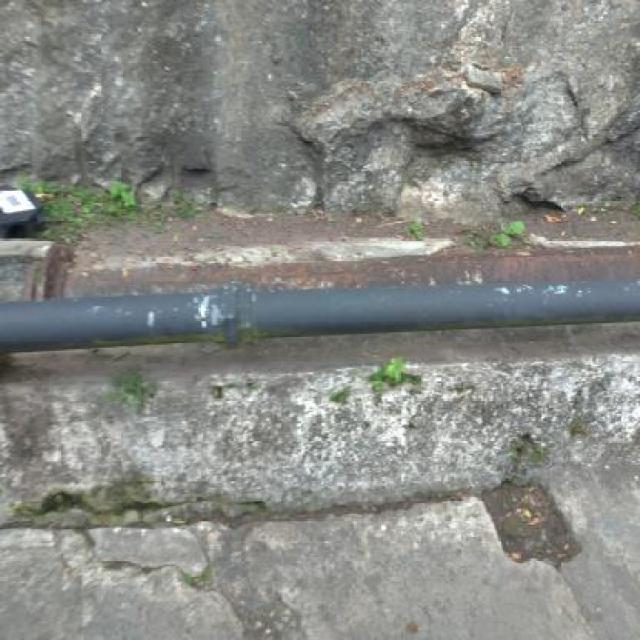gas: (0, 278, 640, 352)
